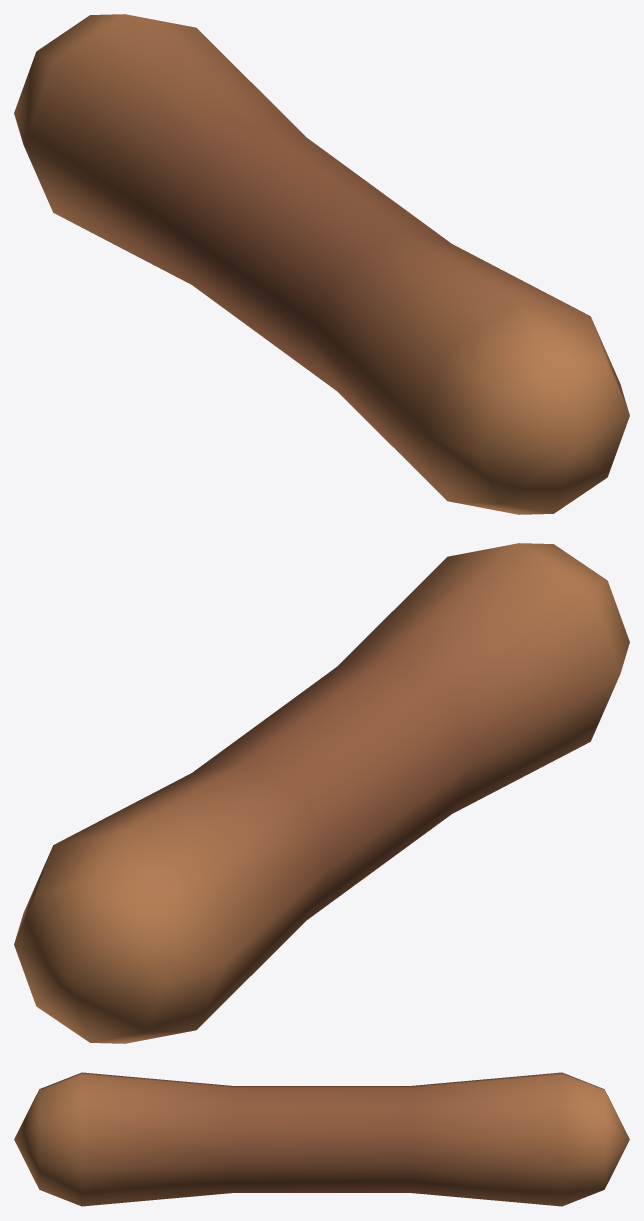
The model's file is microscopic-bacteria-club-bacterium_v1.glb.
3 views of the same model, one above another, from view 1: azimuth 30°, elevation 25°; view 2: azimuth 150°, elevation 25°; view 3: azimuth 270°, elevation 25° (orthographic). The views are drawn at different scales.
Visible parts, largest first — view 1: Club Bacterium_v1; view 2: Club Bacterium_v1; view 3: Club Bacterium_v1.
Boxes of the visible parts, bbox=[...] form: Club Bacterium_v1: bbox=[14, 14, 629, 514]; Club Bacterium_v1: bbox=[14, 543, 629, 1043]; Club Bacterium_v1: bbox=[14, 1072, 629, 1206].
Bounding box in the file's own units: 0.1158 × 0.1158 × 0.5.
